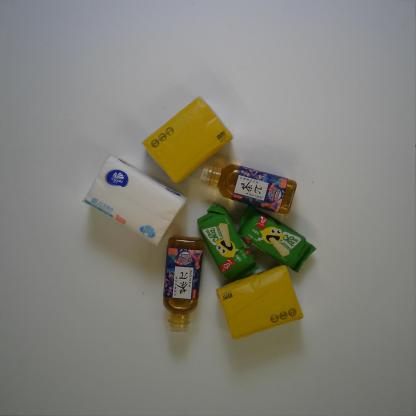Dessert: (236, 202, 317, 274), (197, 200, 260, 283)
Drink: (199, 160, 298, 215), (161, 234, 205, 336)
Tissue: (80, 153, 190, 249), (142, 94, 235, 186), (216, 262, 306, 341)
